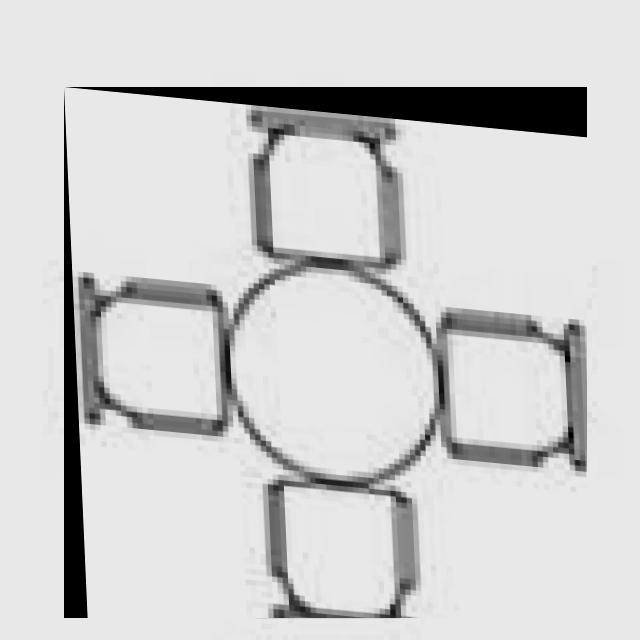table: (64, 87, 587, 618)
